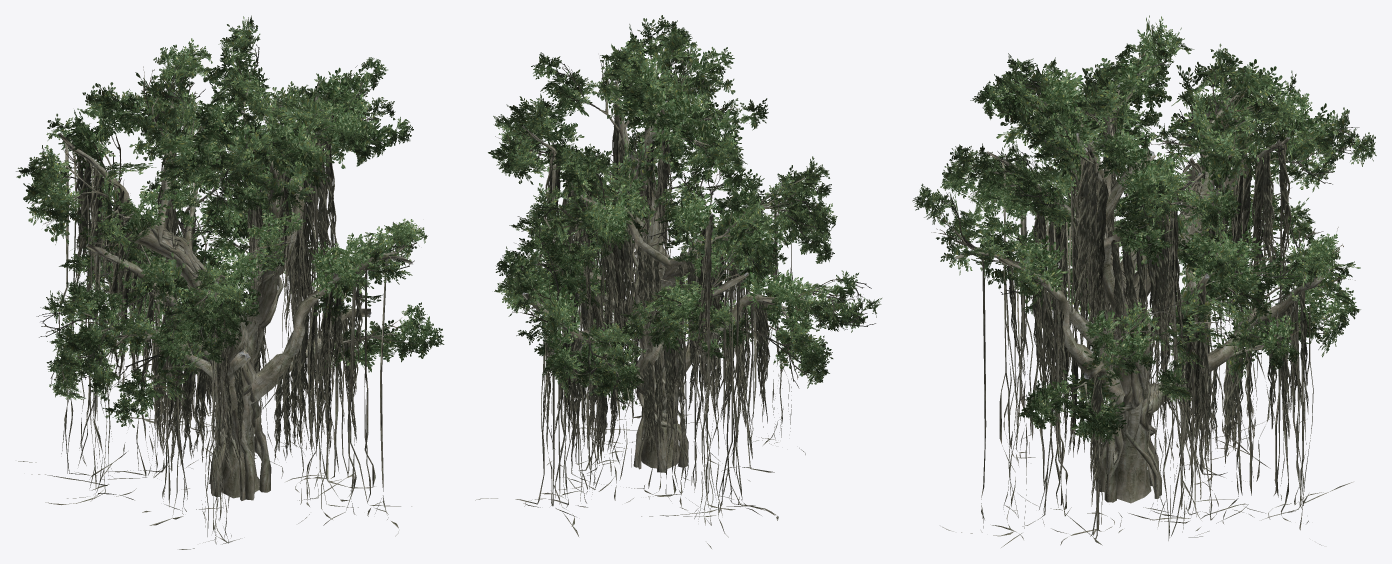
File: banyan.glb
3 renders of one model, left to right at view 1: azimuth 30°, elevation 25°; view 2: azimuth 150°, elevation 25°; view 3: azimuth 270°, elevation 25°, orthographic. The views are drawn at different scales.
Parts seen in each view (by area): view 1: ChineseBanyan_Med; view 2: ChineseBanyan_Med; view 3: ChineseBanyan_Med.
Part boxes in pixels (x1,y1,x2,y2): ChineseBanyan_Med: (16,15,444,549); ChineseBanyan_Med: (475,15,881,548); ChineseBanyan_Med: (912,15,1376,547).
Bounding box in the file's own units: 18.09 × 20.52 × 17.82.
7 materials, 7 textured.
